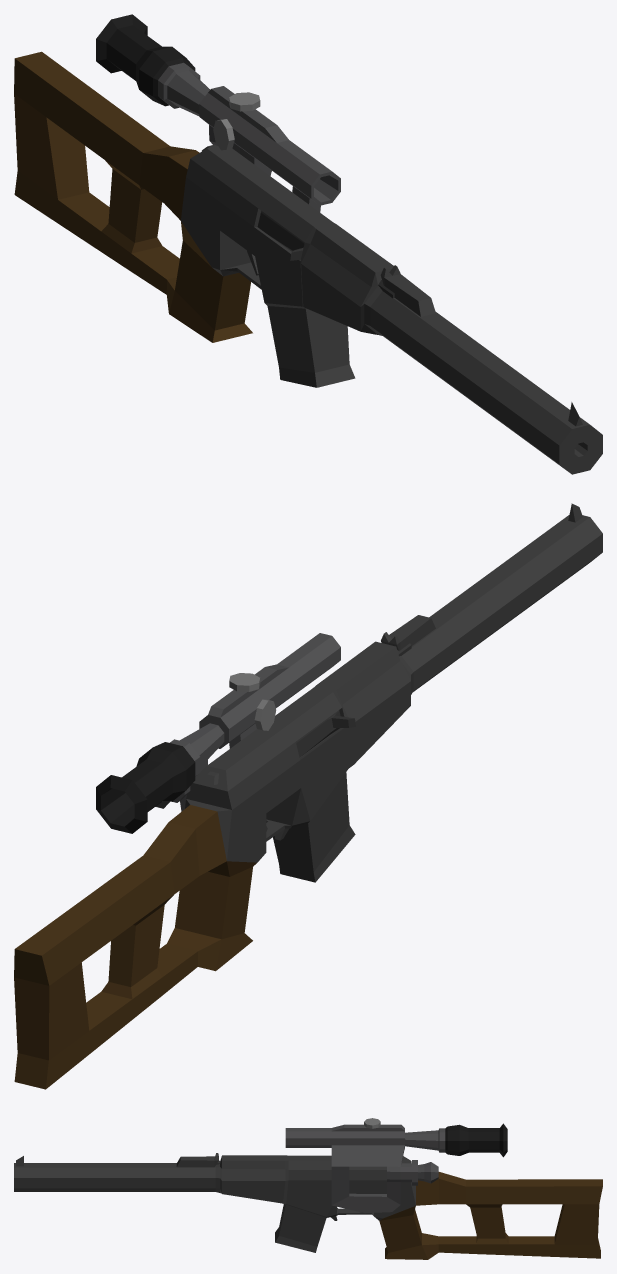
File: VSS_Vintorez 1.fbx
3 views of the same model, one above another, from view 1: azimuth 30°, elevation 25°; view 2: azimuth 150°, elevation 25°; view 3: azimuth 270°, elevation 25° (orthographic). The views are drawn at different scales.
Visible parts, largest first — view 1: VSS_Vintorez.001; view 2: VSS_Vintorez.001; view 3: VSS_Vintorez.001.
Boxes of the visible parts, left/top/right/bottom form: VSS_Vintorez.001: left=14, top=14, right=602, bottom=474; VSS_Vintorez.001: left=14, top=503, right=602, bottom=1089; VSS_Vintorez.001: left=14, top=1118, right=602, bottom=1259.
Bounding box in the file's own units: 7.8 × 22.24 × 89.4.
